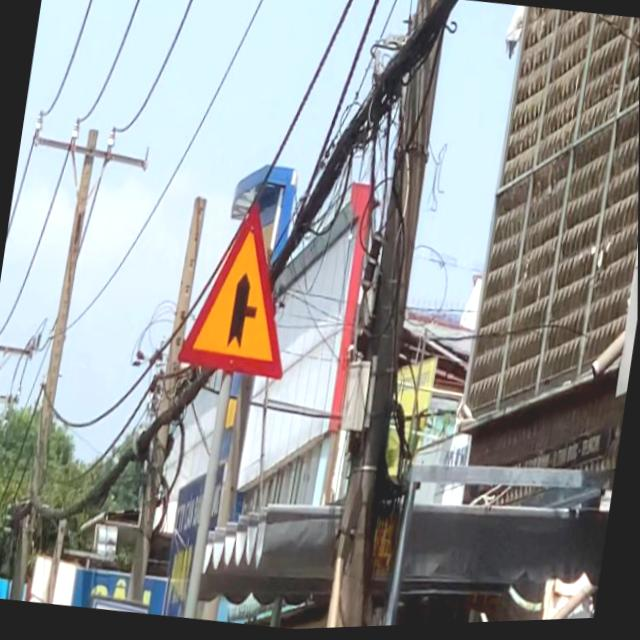Giao nhau voi duong khong uu tien ben phai: (169, 182, 314, 397)
